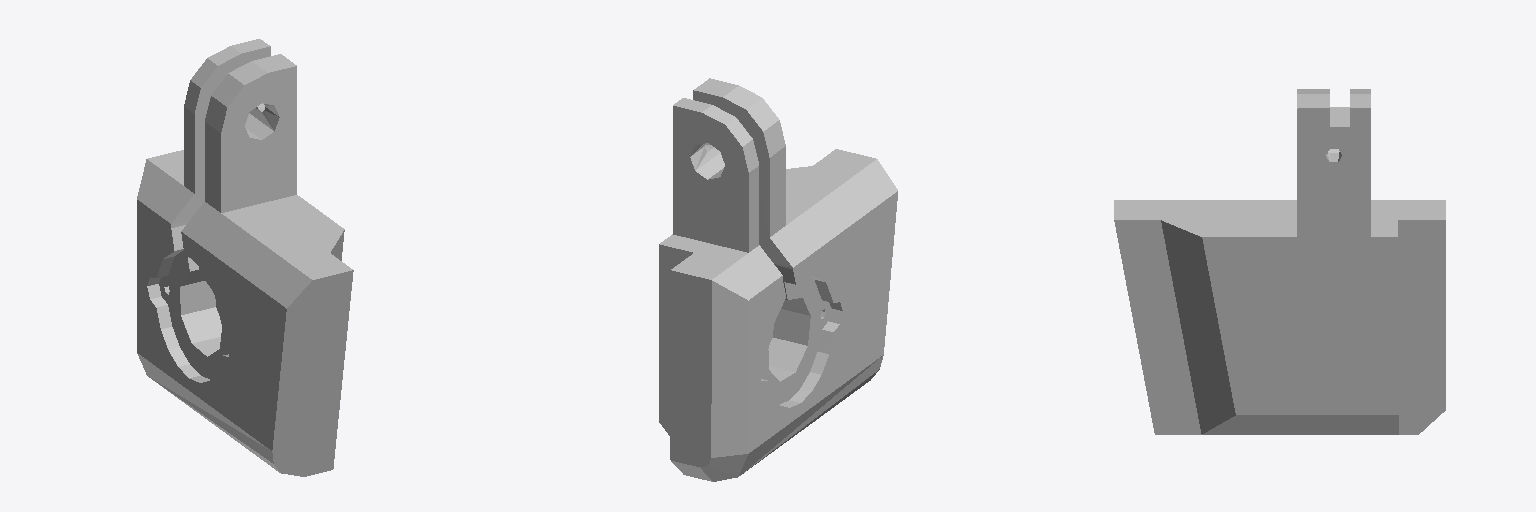
Rendered from legl_toe_joint.obj.
The picture shows the model from 3 angles: view 1: azimuth 30°, elevation 25°; view 2: azimuth 150°, elevation 25°; view 3: azimuth 270°, elevation 25°; orthographic projection.
Size of the model in its own units: 0.017 by 0.056 by 0.049.